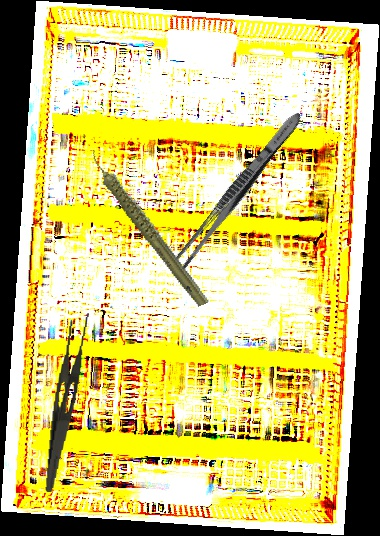Dressing Forceps: (167, 107, 307, 278), (44, 310, 92, 495)
Handpiece: (88, 131, 211, 323)
